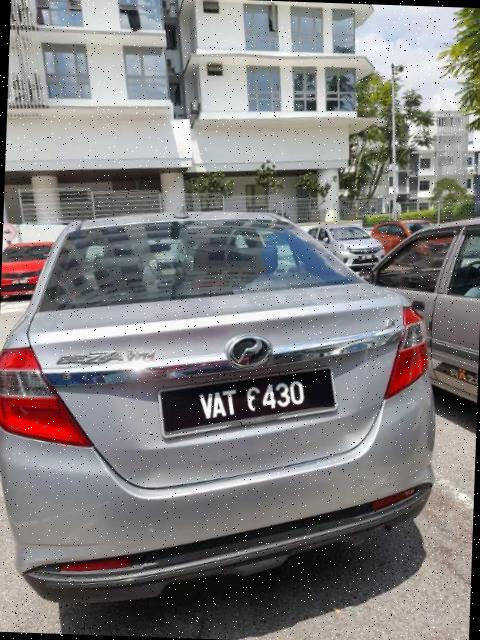License_Plate: (157, 361, 340, 446)
car: (1, 202, 445, 618)
